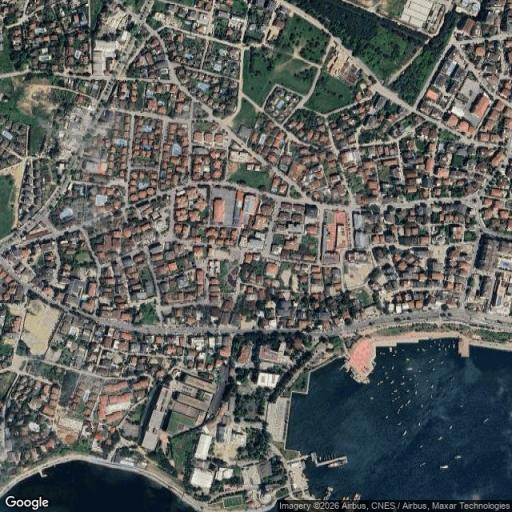ship: (328, 458, 347, 467), (323, 487, 332, 500), (83, 389, 90, 403), (406, 378, 412, 392), (39, 469, 47, 478), (352, 493, 360, 501), (397, 406, 403, 415), (392, 392, 399, 399), (41, 472, 47, 478), (440, 465, 448, 469), (483, 418, 489, 423), (444, 345, 449, 351), (406, 400, 411, 405), (386, 372, 389, 380), (428, 408, 432, 414), (399, 404, 403, 410), (440, 415, 446, 419), (450, 376, 454, 382), (403, 430, 407, 435), (438, 436, 443, 440), (414, 383, 419, 387), (420, 462, 425, 466), (392, 398, 397, 402), (455, 456, 461, 459), (406, 358, 410, 362), (429, 359, 433, 363), (385, 415, 389, 419), (377, 381, 381, 385), (430, 385, 434, 389), (398, 422, 402, 426), (406, 388, 410, 392), (407, 368, 412, 371), (390, 380, 394, 383), (400, 382, 404, 385), (392, 352, 395, 356), (449, 426, 452, 430), (426, 378, 429, 382), (402, 374, 404, 380), (370, 397, 374, 400), (414, 391, 417, 395), (409, 377, 412, 381), (440, 361, 444, 364), (430, 394, 433, 398), (393, 389, 397, 392), (389, 347, 391, 352), (380, 380, 383, 383), (416, 348, 419, 351), (422, 348, 425, 351), (452, 344, 455, 347), (420, 445, 423, 448), (418, 422, 420, 426), (385, 371, 387, 375), (392, 366, 394, 370), (418, 370, 422, 372), (460, 405, 463, 407), (421, 404, 423, 407)
